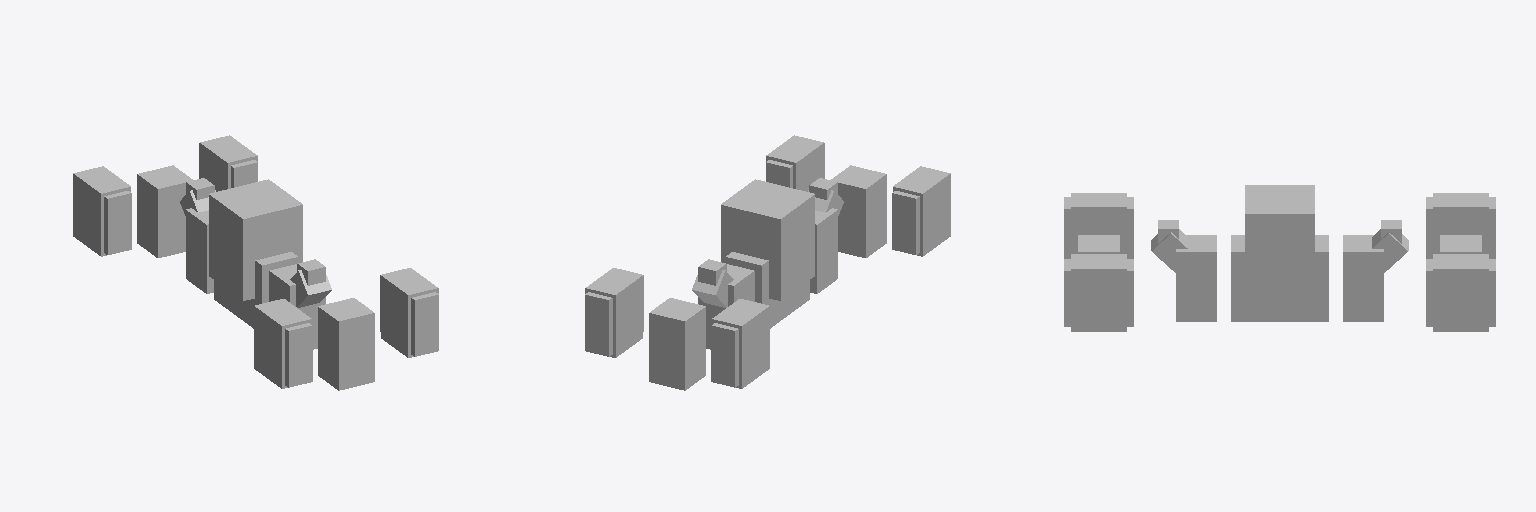
The model's file is frame.obj.
3 views of the same model, side by side, from view 1: azimuth 30°, elevation 25°; view 2: azimuth 150°, elevation 25°; view 3: azimuth 270°, elevation 25° (orthographic).
Visible parts, largest first — view 1: cube_0, cube_7, cube_5, cube_13, cube_12, cube_21, cube_18, cube_4, cube_8, cube_19, cube_11, cube_15 (+4 smaller); view 2: cube_0, cube_5, cube_7, cube_12, cube_13, cube_18, cube_21, cube_4, cube_9, cube_17, cube_14, cube_10 (+4 smaller); view 3: cube_0, cube_18, cube_21, cube_4, cube_8, cube_9, cube_12, cube_13, cube_2, cube_6, cube_5, cube_7.
Part boxes in pixels (left/top/right/bottom): cube_0: left=209, top=179, right=302, bottom=300; cube_7: left=318, top=298, right=374, bottom=390; cube_5: left=137, top=165, right=192, bottom=257; cube_13: left=73, top=166, right=130, bottom=256; cube_12: left=254, top=299, right=311, bottom=388; cube_21: left=381, top=268, right=438, bottom=357; cube_18: left=200, top=135, right=257, bottom=191; cube_4: left=214, top=252, right=297, bottom=328; cube_8: left=186, top=208, right=213, bottom=293; cube_19: left=411, top=292, right=438, bottom=356; cube_11: left=285, top=323, right=312, bottom=387; cube_15: left=104, top=191, right=131, bottom=254; cube_0: left=721, top=179, right=814, bottom=300; cube_5: left=649, top=298, right=705, bottom=390; cube_7: left=831, top=165, right=886, bottom=257; cube_12: left=893, top=166, right=950, bottom=256; cube_13: left=712, top=299, right=769, bottom=388; cube_18: left=585, top=268, right=642, bottom=357; cube_21: left=766, top=135, right=823, bottom=191; cube_4: left=726, top=252, right=809, bottom=328; cube_9: left=810, top=208, right=837, bottom=293; cube_17: left=585, top=292, right=612, bottom=356; cube_14: left=711, top=323, right=738, bottom=387; cube_10: left=892, top=191, right=919, bottom=254; cube_0: left=1245, top=185, right=1314, bottom=295; cube_18: left=1433, top=254, right=1488, bottom=331; cube_21: left=1071, top=254, right=1126, bottom=331; cube_4: left=1231, top=235, right=1328, bottom=321; cube_8: left=1343, top=235, right=1383, bottom=321; cube_9: left=1176, top=235, right=1216, bottom=321; cube_12: left=1071, top=193, right=1126, bottom=253; cube_13: left=1433, top=193, right=1488, bottom=253; cube_2: left=1372, top=229, right=1408, bottom=272; cube_6: left=1151, top=229, right=1187, bottom=272; cube_5: left=1440, top=235, right=1481, bottom=253; cube_7: left=1078, top=235, right=1119, bottom=253.
Size of the model in its own units: 1.62 by 1.12 by 3.88.